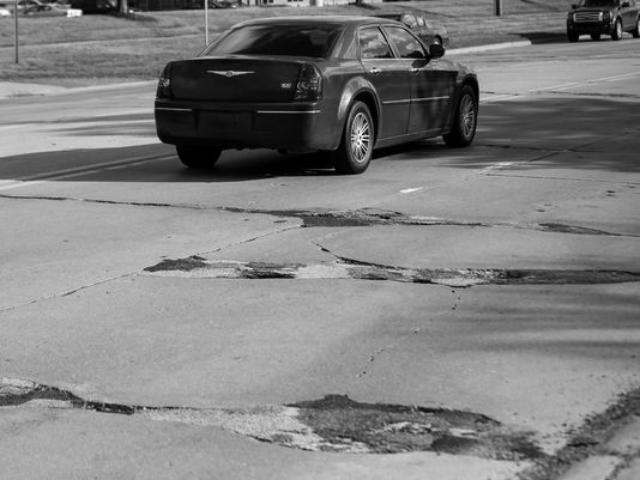Pothole: (1, 361, 544, 479), (125, 228, 640, 306), (202, 183, 482, 253)
